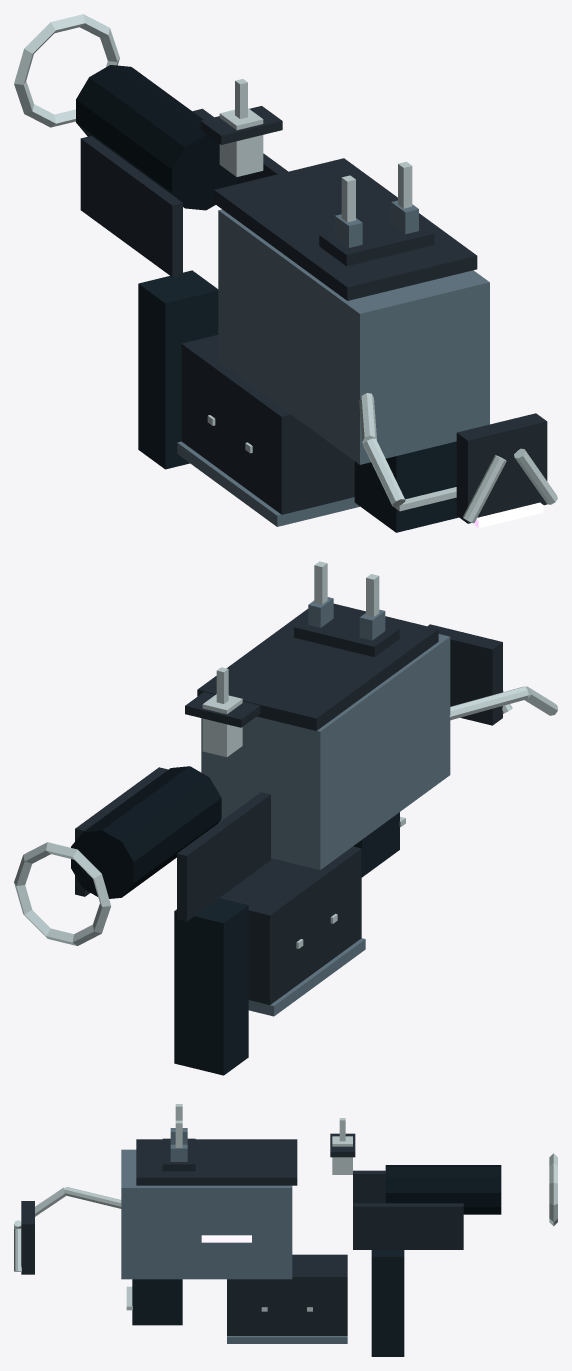
Rendered from world-9.glb.
The picture shows the model from 3 angles, top to bottom: view 1: azimuth 30°, elevation 25°; view 2: azimuth 150°, elevation 25°; view 3: azimuth 270°, elevation 25°; orthographic projection. The views are drawn at different scales.
Visible parts, largest first — view 1: body-light, body-dark, feed-dark, body-rubber, barrel-assembly-cavity, body-trim, feed-light, body-glow; view 2: body-light, body-dark, body-rubber, feed-dark, barrel-assembly-cavity, body-trim, feed-light; view 3: body-light, body-dark, feed-dark, body-rubber, barrel-assembly-cavity, body-trim, feed-light, body-glow.
Boxes of the visible parts, x1=… form: body-light: x1=218, y1=200, x2=489, y2=464; body-dark: x1=80, y1=106, x2=547, y2=523; feed-dark: x1=181, y1=335, x2=354, y2=514; body-rubber: x1=138, y1=270, x2=458, y2=532; barrel-assembly-cavity: x1=76, y1=65, x2=239, y2=210; body-trim: x1=14, y1=14, x2=557, y2=523; feed-light: x1=177, y1=441, x2=359, y2=526; body-glow: x1=474, y1=502, x2=543, y2=528; body-light: x1=201, y1=597, x2=450, y2=869; body-dark: x1=75, y1=603, x2=502, y2=921; body-rubber: x1=174, y1=812, x2=399, y2=1075; feed-dark: x1=220, y1=846, x2=361, y2=1004; barrel-assembly-cavity: x1=71, y1=766, x2=221, y2=898; body-trim: x1=14, y1=561, x2=557, y2=945; feed-light: x1=248, y1=938, x2=365, y2=1016; body-light: x1=121, y1=1128, x2=292, y2=1279; body-dark: x1=21, y1=1133, x2=463, y2=1274; feed-dark: x1=227, y1=1254, x2=347, y2=1335; body-rubber: x1=132, y1=1250, x2=404, y2=1356; barrel-assembly-cavity: x1=385, y1=1165, x2=501, y2=1214; body-trim: x1=14, y1=1104, x2=557, y2=1310; feed-light: x1=227, y1=1336, x2=347, y2=1343; body-glow: x1=17, y1=1235, x2=251, y2=1274.
Bounding box in the file's own units: 0.2455 × 0.532 × 1.08.
